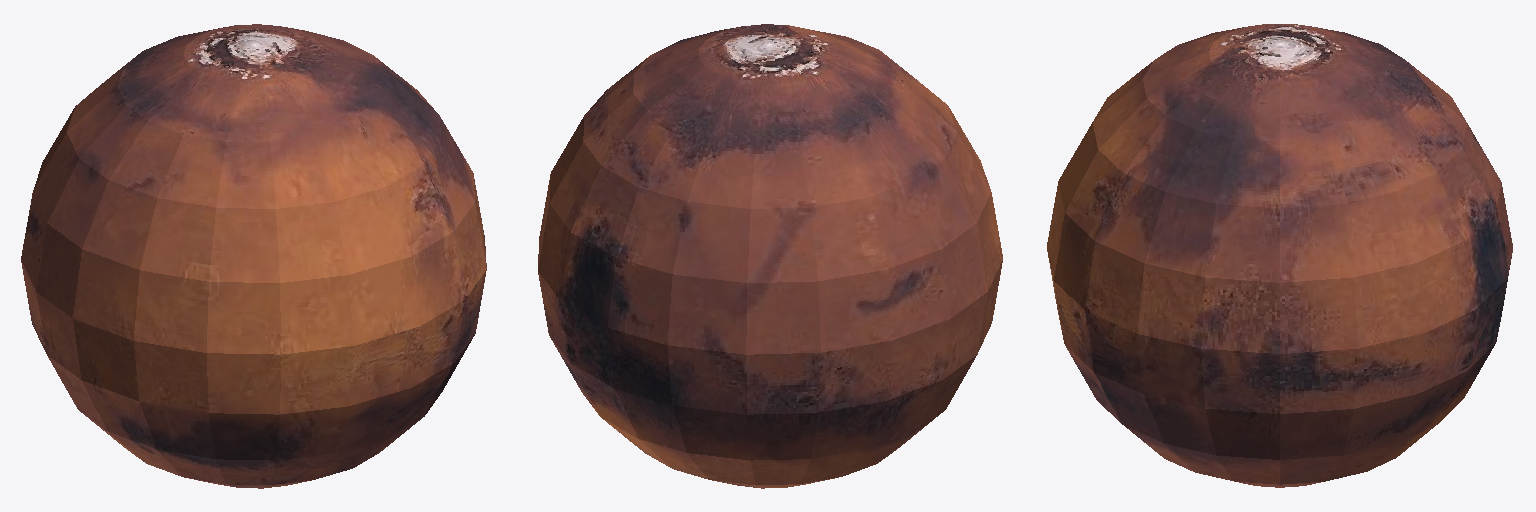
3 renders of one model, left to right at view 1: azimuth 30°, elevation 25°; view 2: azimuth 150°, elevation 25°; view 3: azimuth 270°, elevation 25°, orthographic.
Parts seen in each view (by area): view 1: Default object_1; view 2: Default object_1; view 3: Default object_1.
Part boxes in pixels (bbox=[...]): Default object_1: bbox=[21, 24, 486, 488]; Default object_1: bbox=[538, 24, 1002, 488]; Default object_1: bbox=[1047, 24, 1512, 487].
Size of the model in its own units: 11.93 by 12 by 11.96.
Materials: 1 (1 with a texture image).